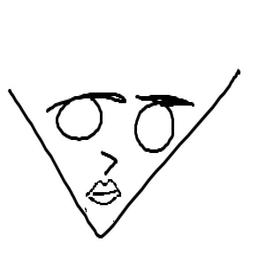cupid_mouth: (82, 177, 124, 207)
empty_eye: (126, 103, 179, 155), (54, 92, 109, 141)
pointy_nose: (93, 147, 121, 179)
